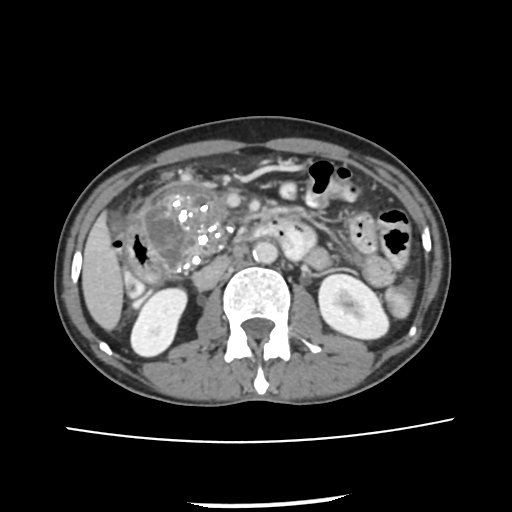aorta: (249, 238, 278, 265)
